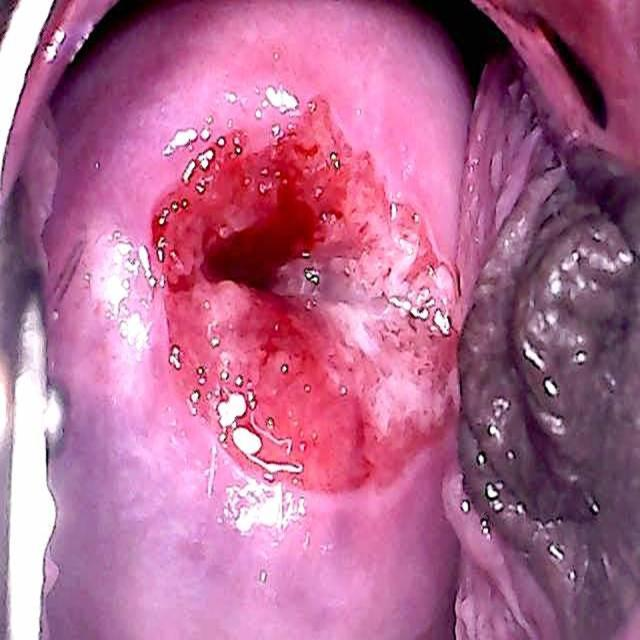cervical_lesion: (61, 36, 472, 604)
